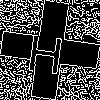H: (25, 25, 67, 75)
